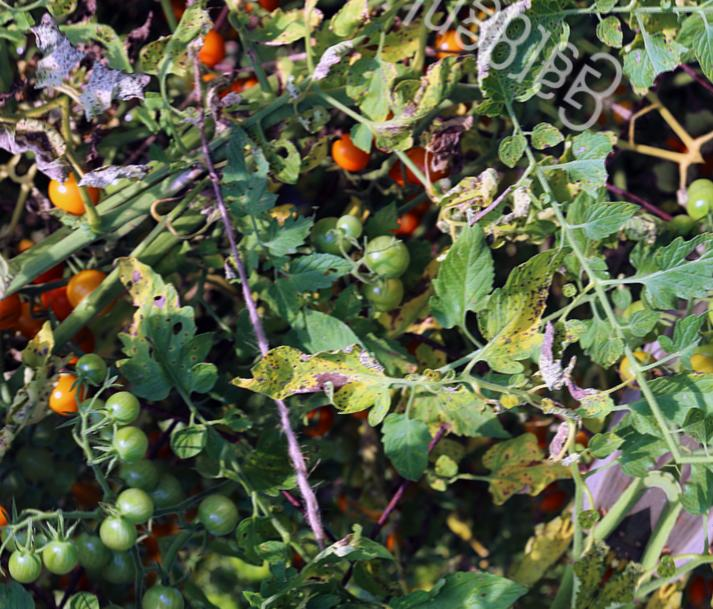Tomato Early blight leaf: (226, 292, 414, 464), (71, 254, 248, 421), (457, 234, 584, 381), (389, 533, 525, 609), (470, 421, 572, 521), (419, 375, 517, 457), (630, 336, 713, 429)
Tomato leaf: (409, 214, 522, 339)
